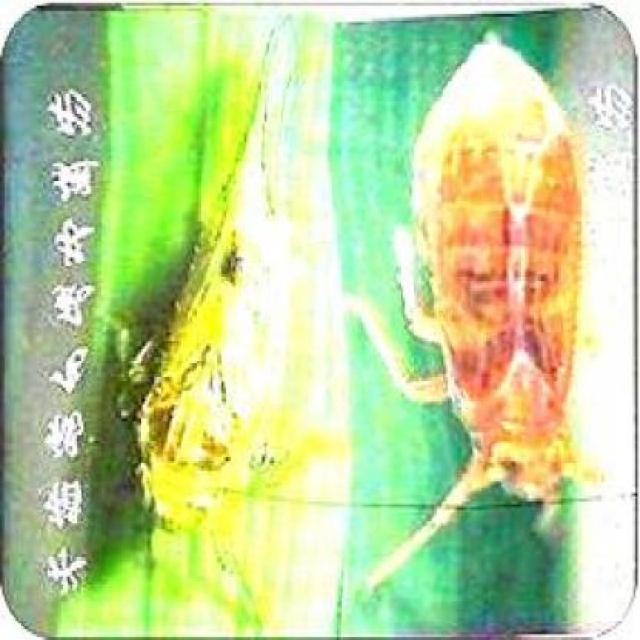brown-planthopper: (123, 22, 317, 560), (403, 31, 597, 540)
